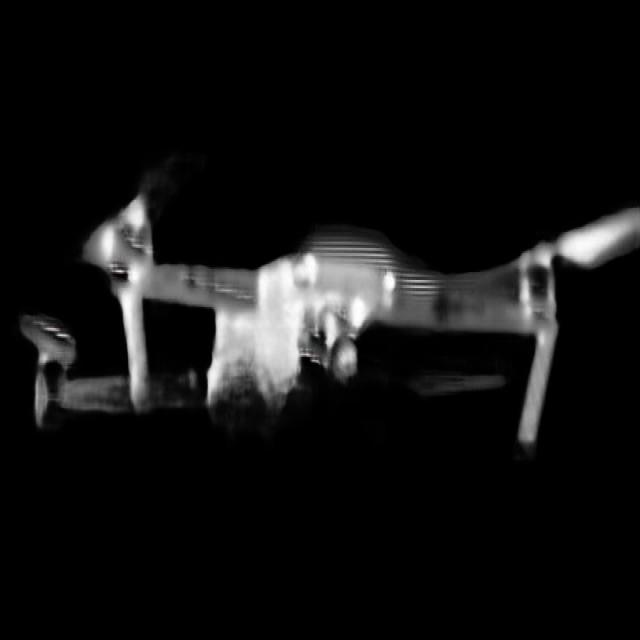drone: (19, 134, 639, 483)
